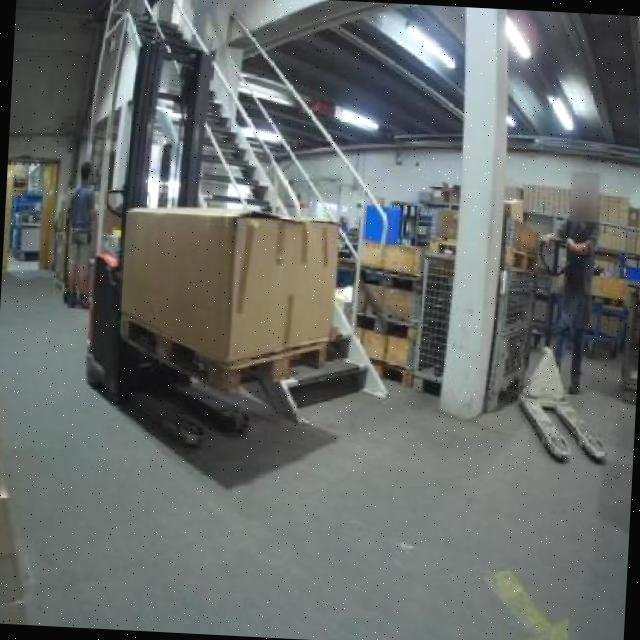pallet: (109, 298, 338, 400), (351, 256, 428, 302)
